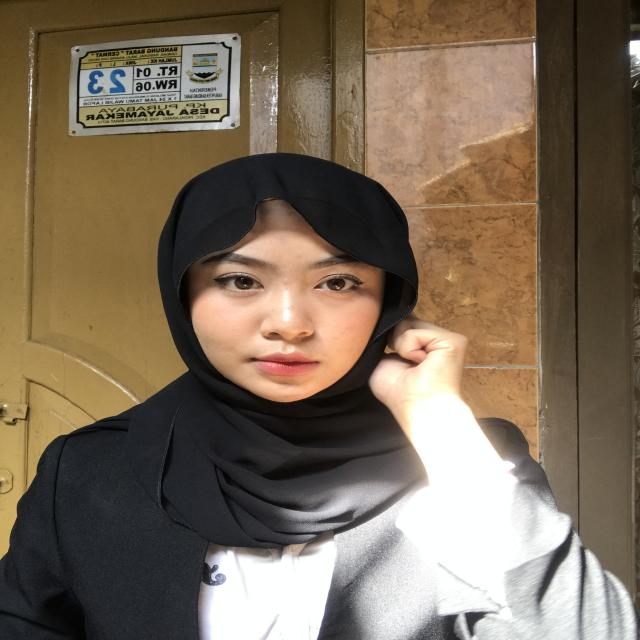ibu: (314, 294, 568, 537)
